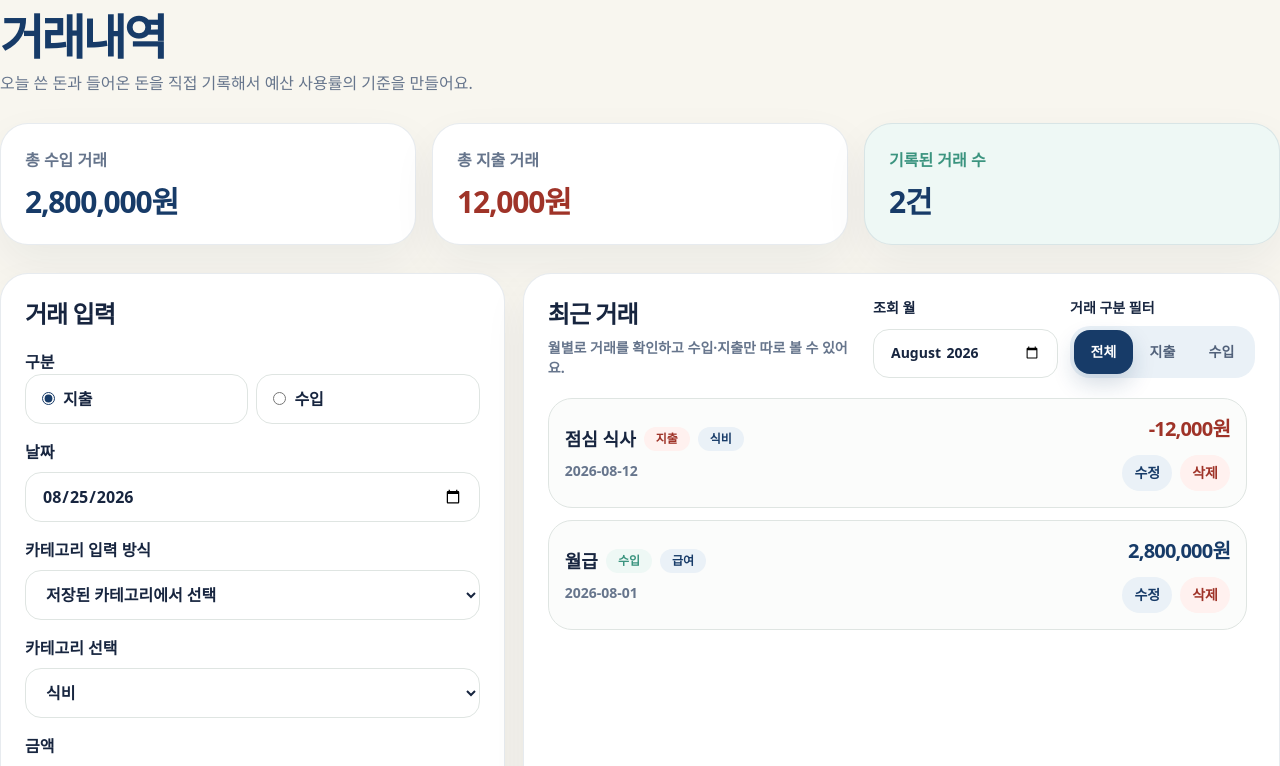
Test: TransactionsPage › fills the form from a transaction and saves edits
This screenshot has width=1280, height=766.
Expected: the text "점심 식사" is shown, [565, 424, 636, 452]
Click the button with aria-label "점심 식사 수정" at {"x": 1147, "y": 472}, box [1122, 454, 1172, 490]
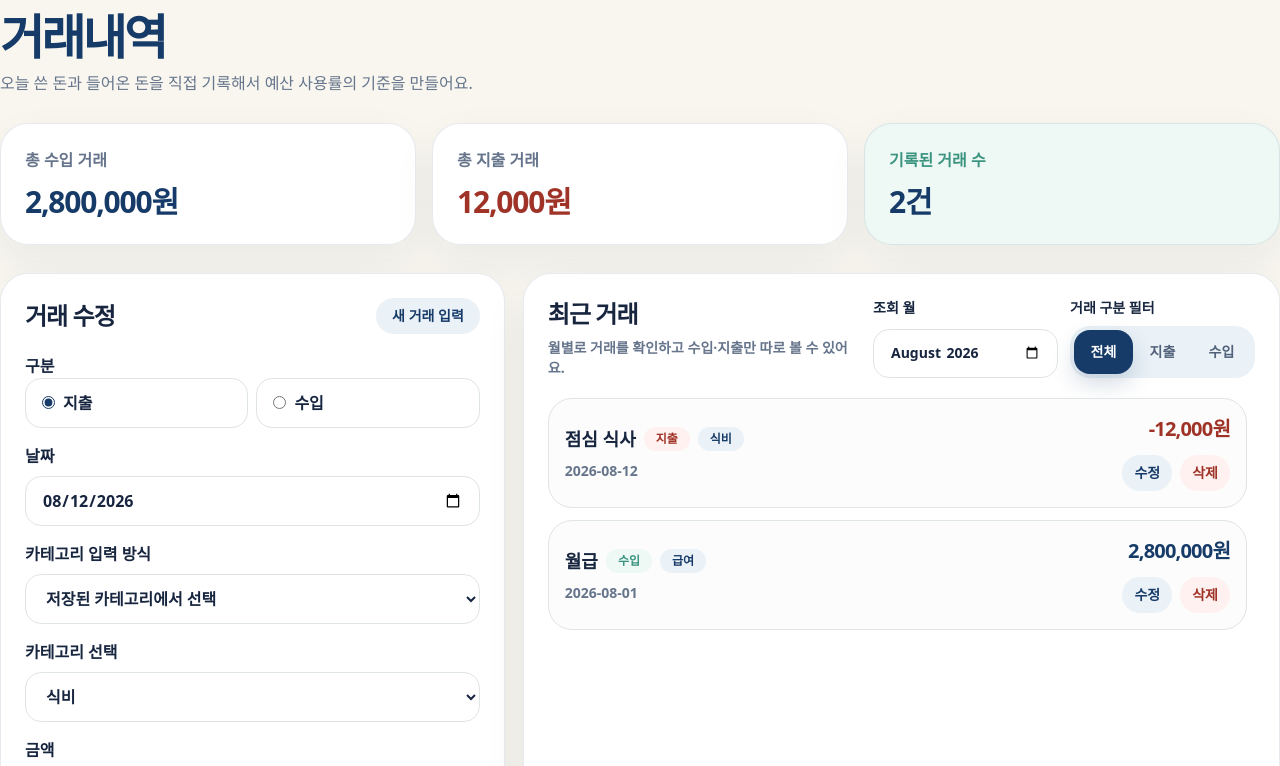
Expected: the dropdown labelled "카테고리 선택" shows "식비", [25, 672, 480, 722]
Select "직접 입력" in the dropdown labelled "카테고리 입력 방식" at {"x": 252, "y": 598}, box [25, 574, 480, 624]
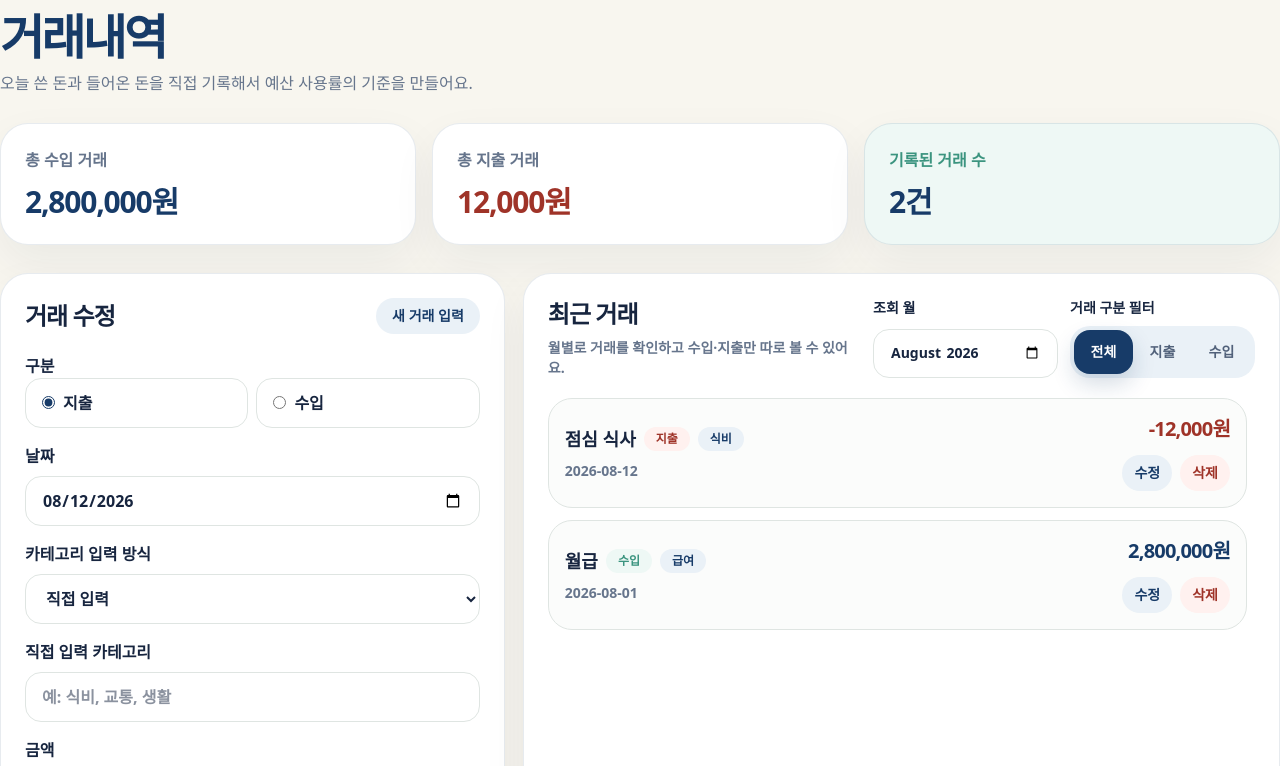
Type "외식" into the field labelled "직접 입력 카테고리" at {"x": 252, "y": 696}, box [25, 672, 480, 722]
(page scrolled)
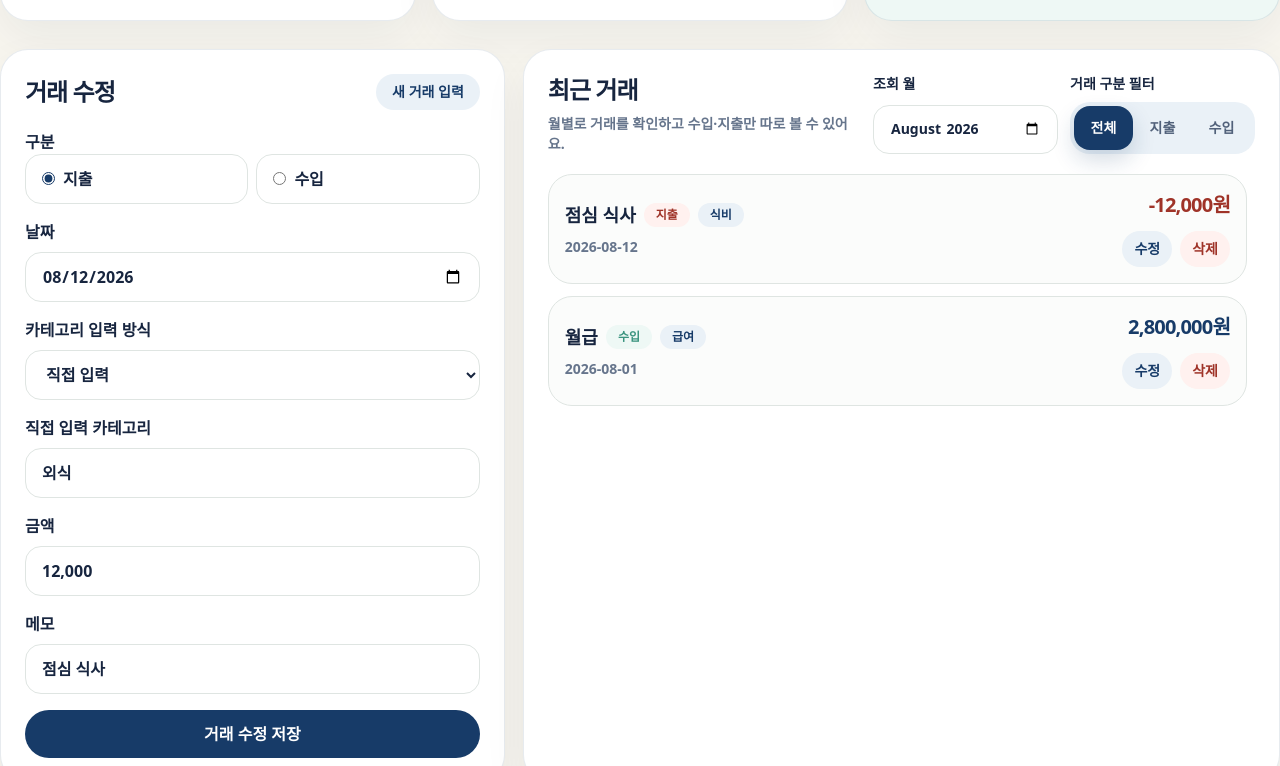
Replace the text in the field labelled "금액" with "18000" at {"x": 252, "y": 570}, box [25, 546, 480, 596]
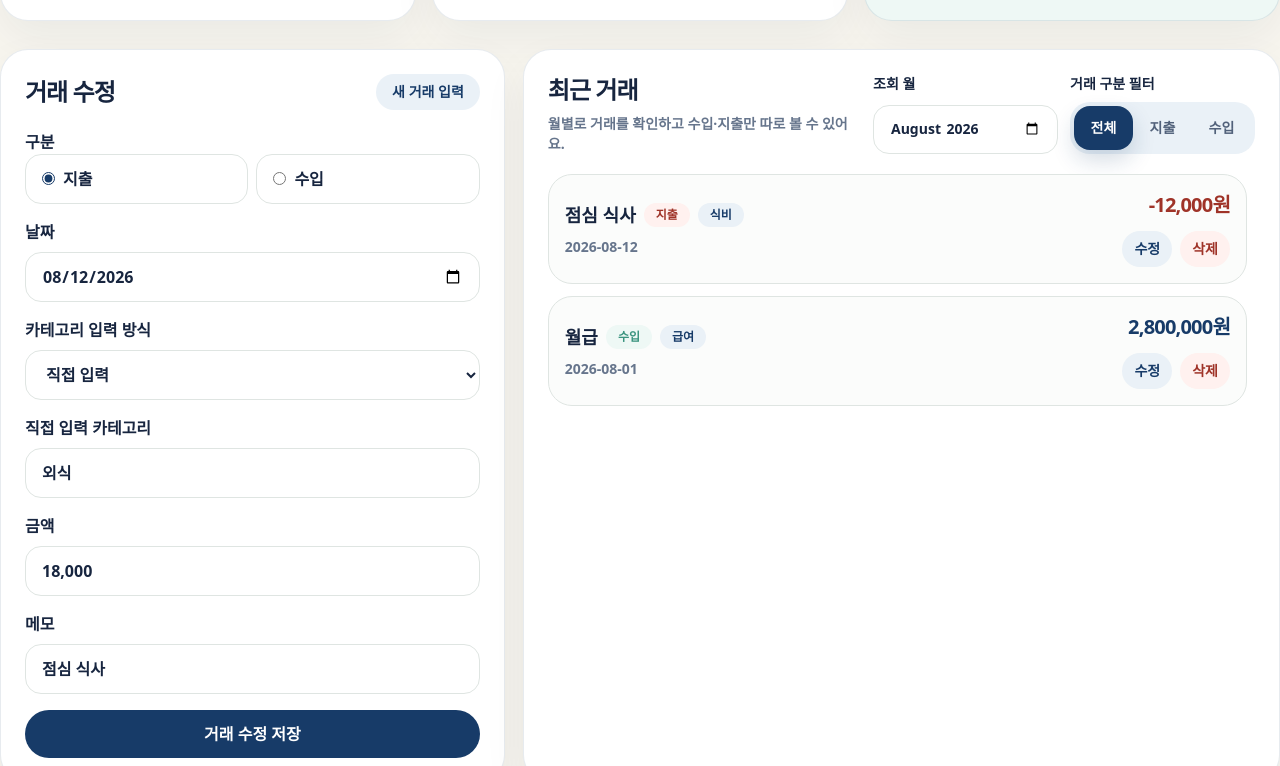
Replace the text in the field labelled "메모" with "저녁 식사" at {"x": 252, "y": 668}, box [25, 644, 480, 694]
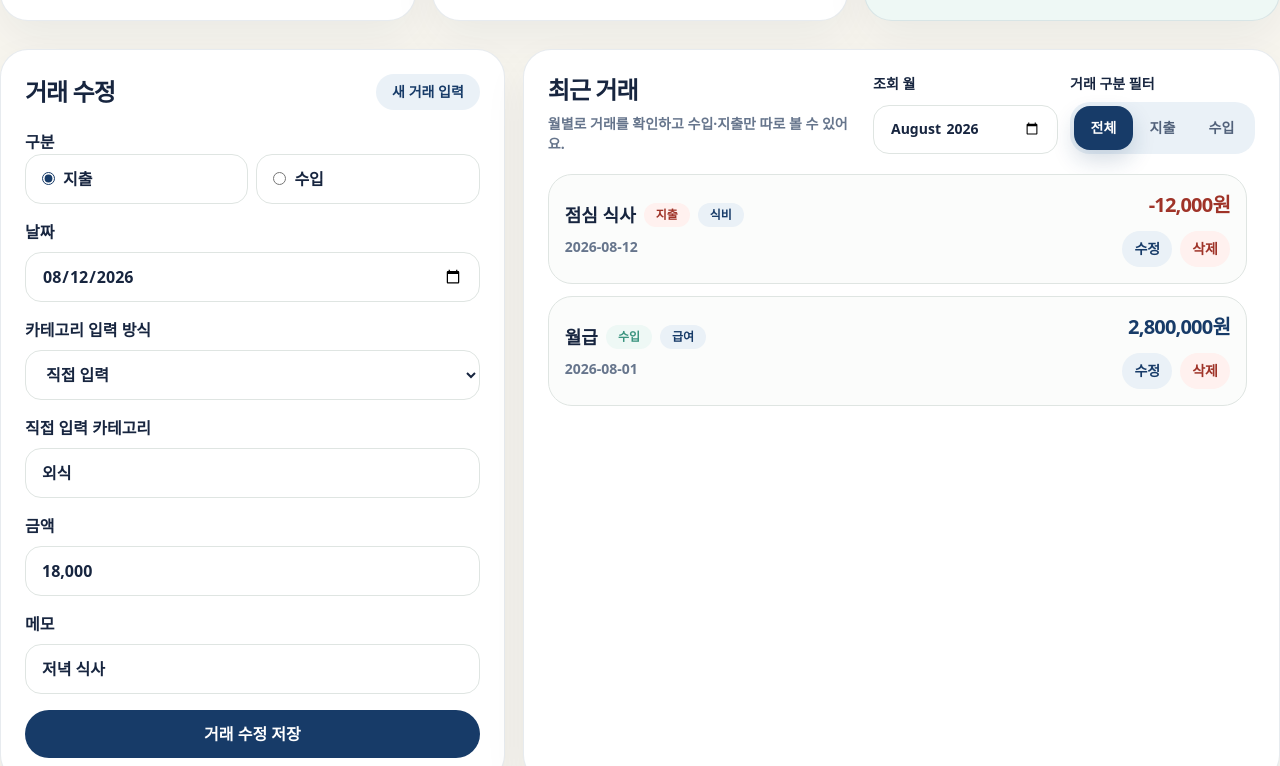
Click the button "거래 수정 저장" at {"x": 252, "y": 734}, box [25, 710, 480, 758]
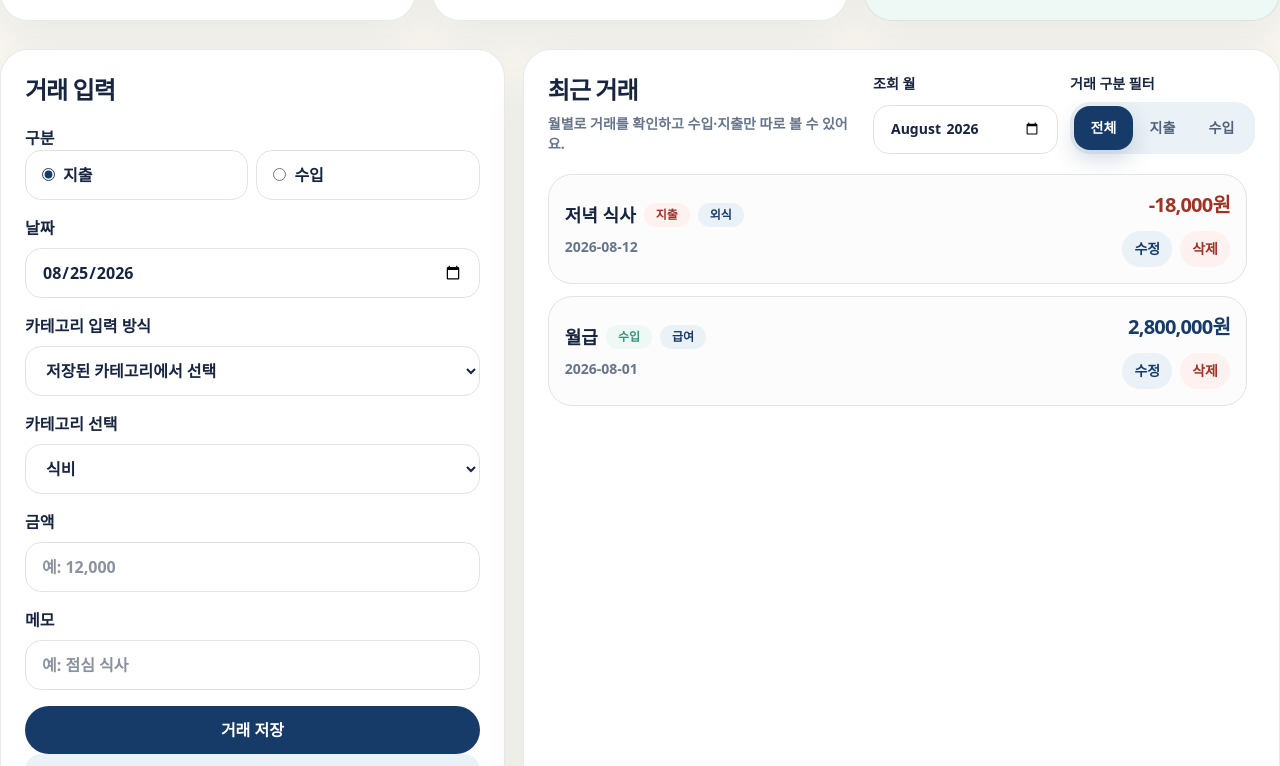
Expected: the text "저녁 식사" is shown, [565, 200, 636, 228]
